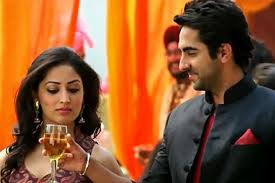Caution: (1, 1, 275, 183)
